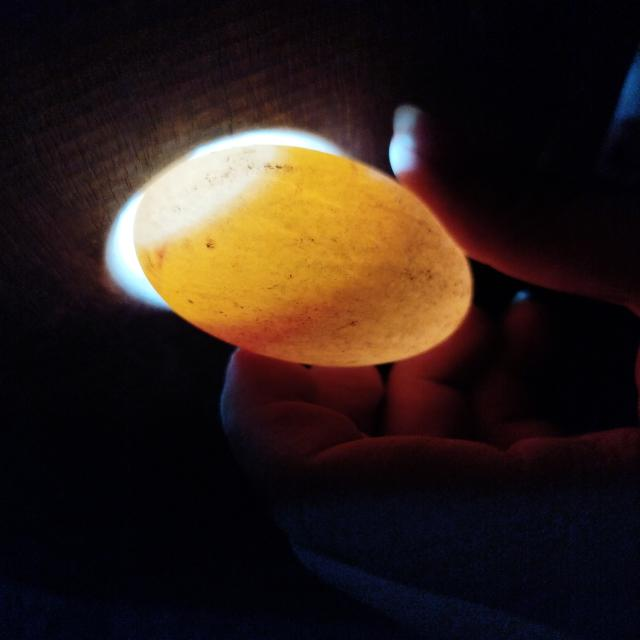Camara de Ar: (134, 146, 277, 240)
Gema Quebrada: (198, 280, 368, 360)
